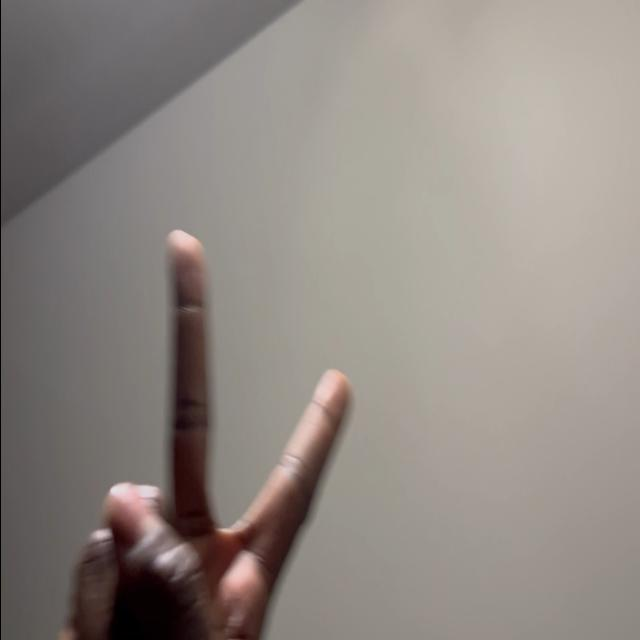Scissors: (54, 233, 350, 640)
